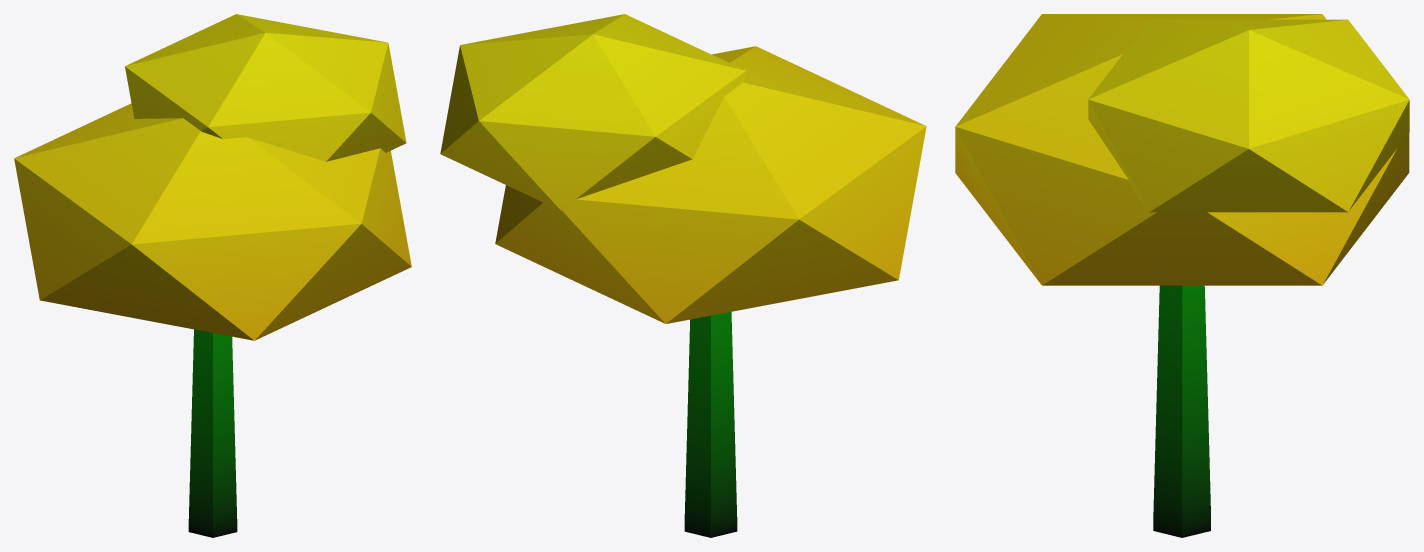
Rendered from specific_aspen.glb.
3 views of the same model, side by side, from view 1: azimuth 30°, elevation 25°; view 2: azimuth 150°, elevation 25°; view 3: azimuth 270°, elevation 25° (orthographic). The views are drawn at different scales.
Parts seen in each view (by area): view 1: specific_aspen; view 2: specific_aspen; view 3: specific_aspen.
Boxes of the visible parts, bbox=[...] form: specific_aspen: bbox=[14, 14, 411, 537]; specific_aspen: bbox=[440, 14, 926, 537]; specific_aspen: bbox=[955, 14, 1409, 537].
Bounding box in the file's own units: 0.8694 × 1 × 0.7614.
